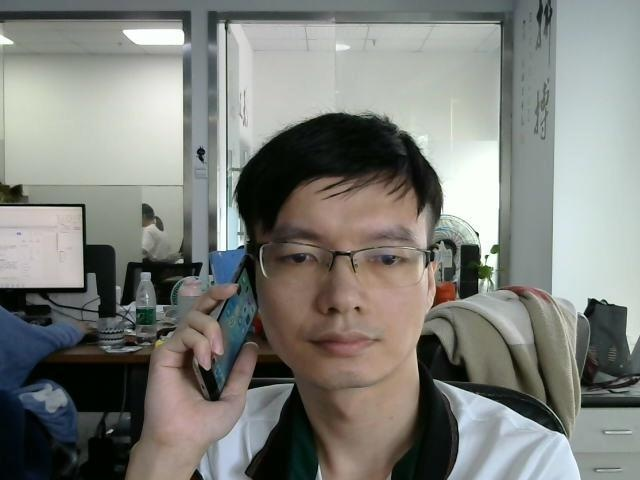hand: (152, 286, 259, 436)
